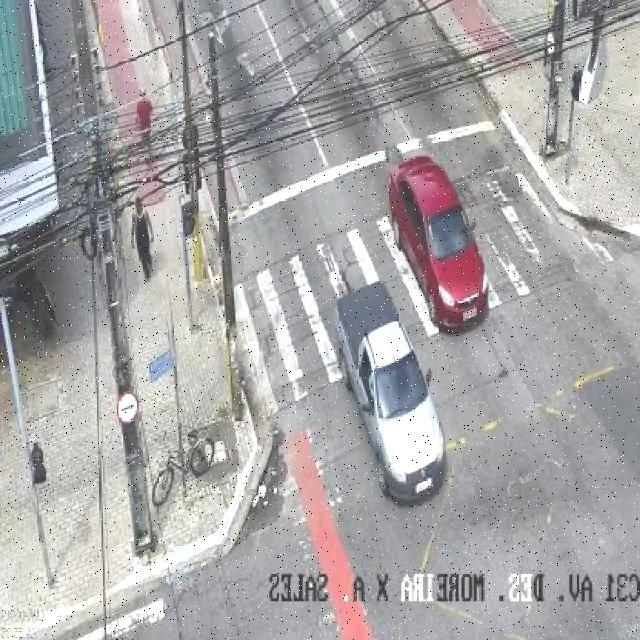Car: (335, 282, 464, 499), (388, 156, 493, 332)
Cycle: (149, 429, 232, 507)
